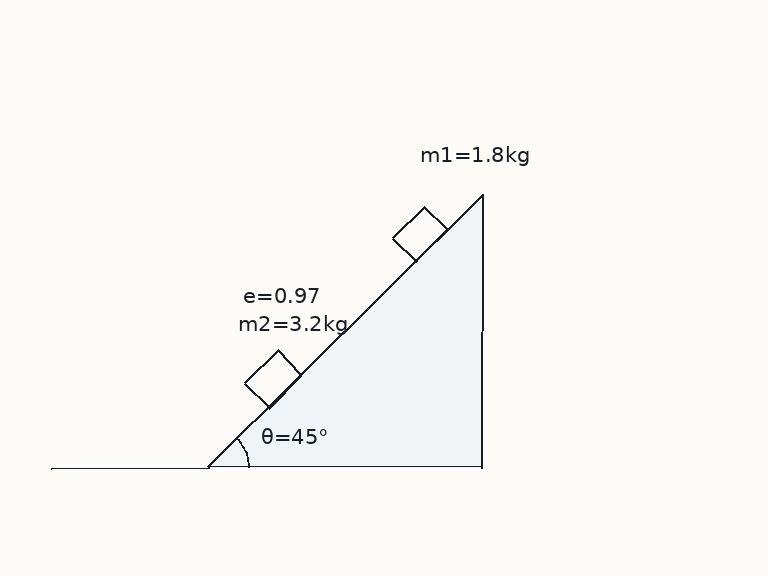block: (243, 348, 304, 409), (391, 204, 449, 262)
ramp: (207, 193, 483, 469)
